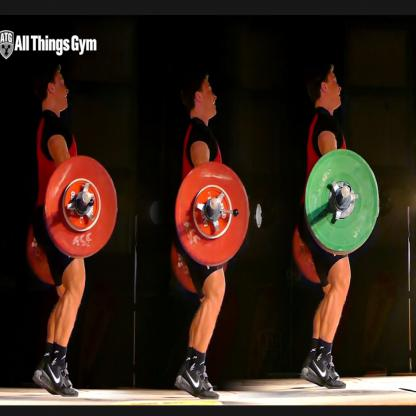Barbell: (39, 150, 123, 266), (303, 146, 386, 262), (167, 158, 251, 272)
